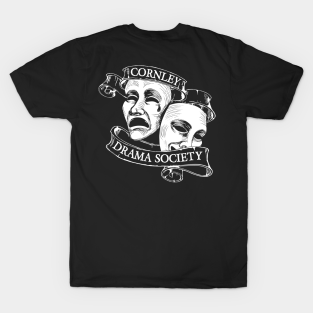design: (95, 62, 219, 184)
